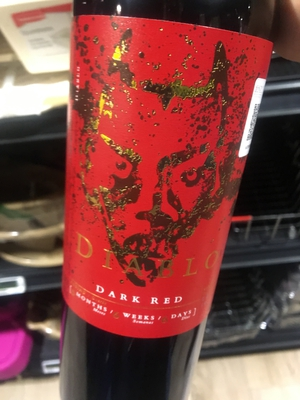diablo dark red: (59, 7, 281, 400)
